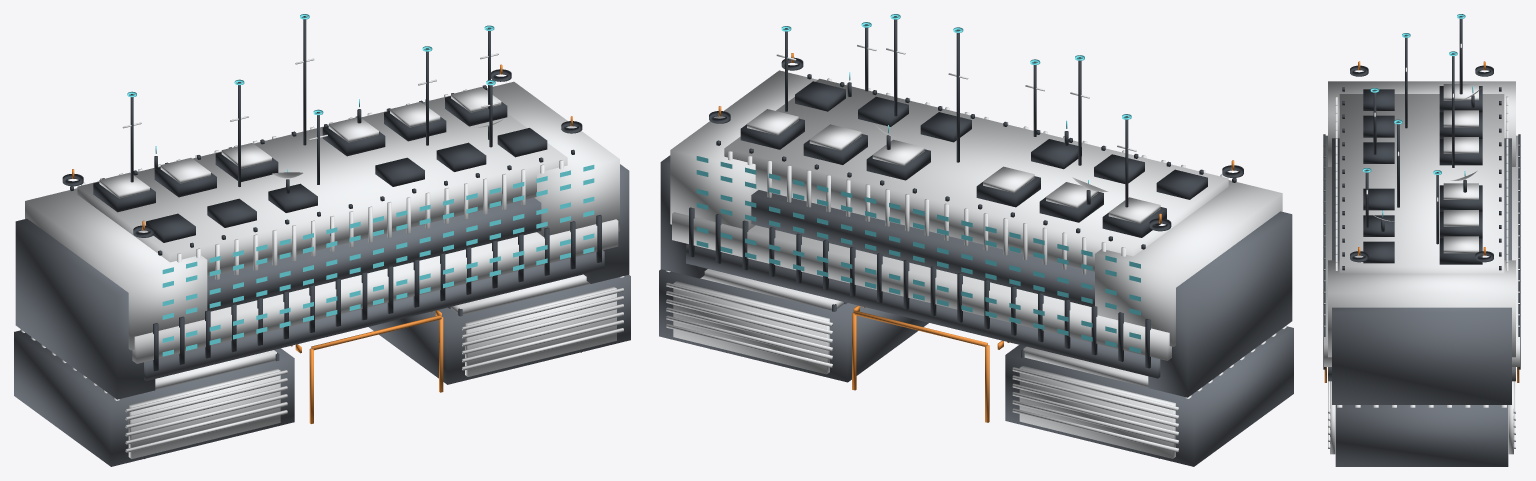
The model's file is station_gate.gltf.
The picture shows the model from 3 angles, left to right: view 1: azimuth 30°, elevation 25°; view 2: azimuth 150°, elevation 25°; view 3: azimuth 270°, elevation 25°; orthographic projection. The views are drawn at different scales.
Parts seen in each view (by area): view 1: StationGate; view 2: StationGate; view 3: StationGate.
Part boxes in pixels (bbox=[...]): StationGate: bbox=[14, 14, 630, 466]; StationGate: bbox=[659, 14, 1293, 466]; StationGate: bbox=[1323, 14, 1520, 466].
Bounding box in the file's own units: 68.52 × 43.5 × 25.4.
